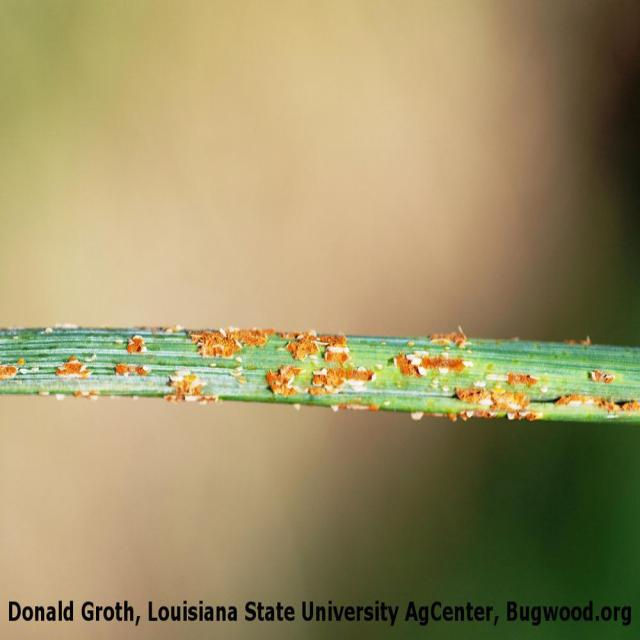wheat-stemrust: (277, 330, 376, 396), (455, 385, 541, 421), (189, 329, 277, 360), (554, 393, 639, 414), (396, 352, 466, 377), (164, 374, 218, 405), (266, 366, 301, 396), (429, 332, 467, 351), (418, 409, 470, 422), (336, 398, 377, 413), (59, 355, 90, 373), (114, 365, 146, 379), (590, 369, 612, 385), (126, 338, 147, 353), (509, 373, 530, 388), (568, 339, 591, 347)
